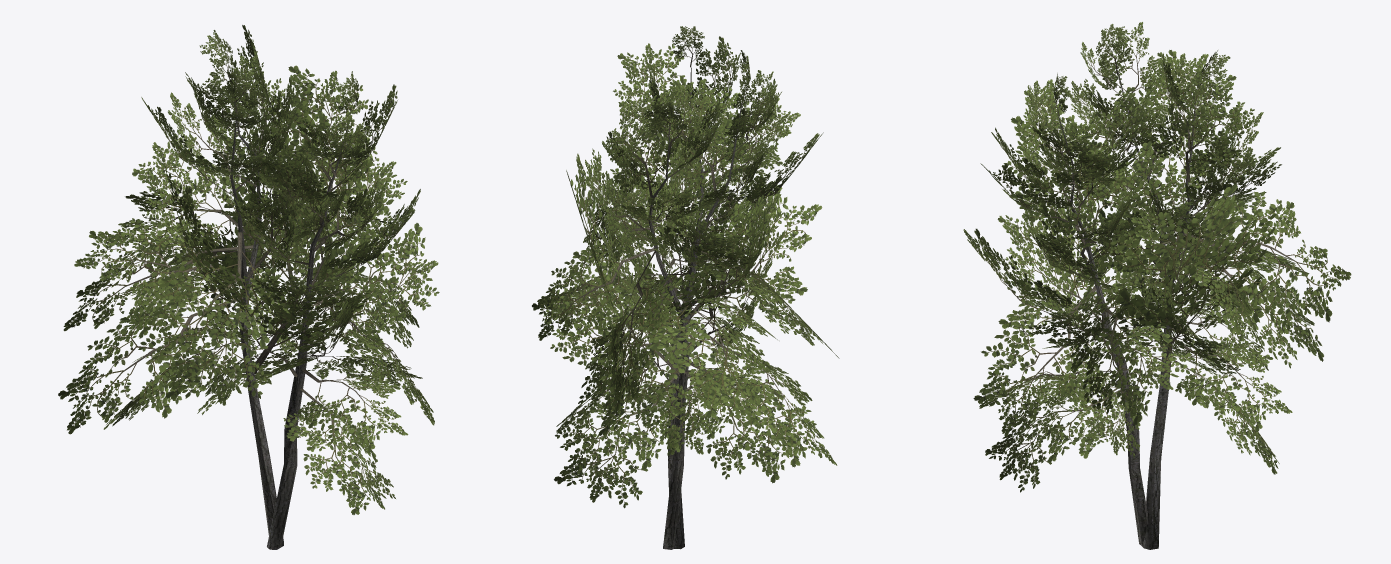
Rendered from tree7.fbx.
3 views of the same model, side by side, from view 1: azimuth 30°, elevation 25°; view 2: azimuth 150°, elevation 25°; view 3: azimuth 270°, elevation 25° (orthographic). The views are drawn at different scales.
Visible parts, largest first — view 1: Tree-01-1; view 2: Tree-01-1; view 3: Tree-01-1.
Part boxes in pixels (bbox=[...]): Tree-01-1: bbox=[58, 25, 439, 549]; Tree-01-1: bbox=[532, 26, 839, 549]; Tree-01-1: bbox=[963, 22, 1351, 549].
Bounding box in the file's own units: 506 × 739 × 617.
